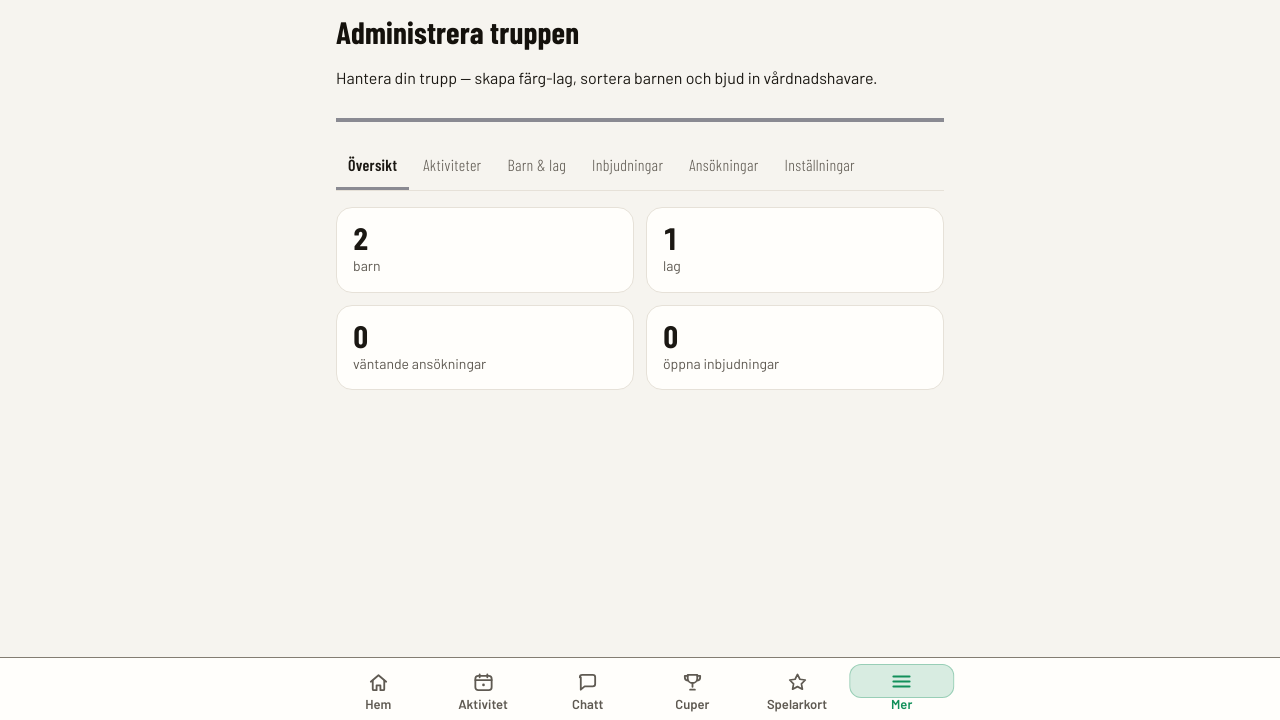
Scenario: Barn & lag › ändrar ett lags namn via kugghjulet (PUT under truppen)
This screenshot has width=1280, height=720.
Click the tab "Barn & lag".
click(537, 166)  # box left=496, top=142, right=578, bottom=190
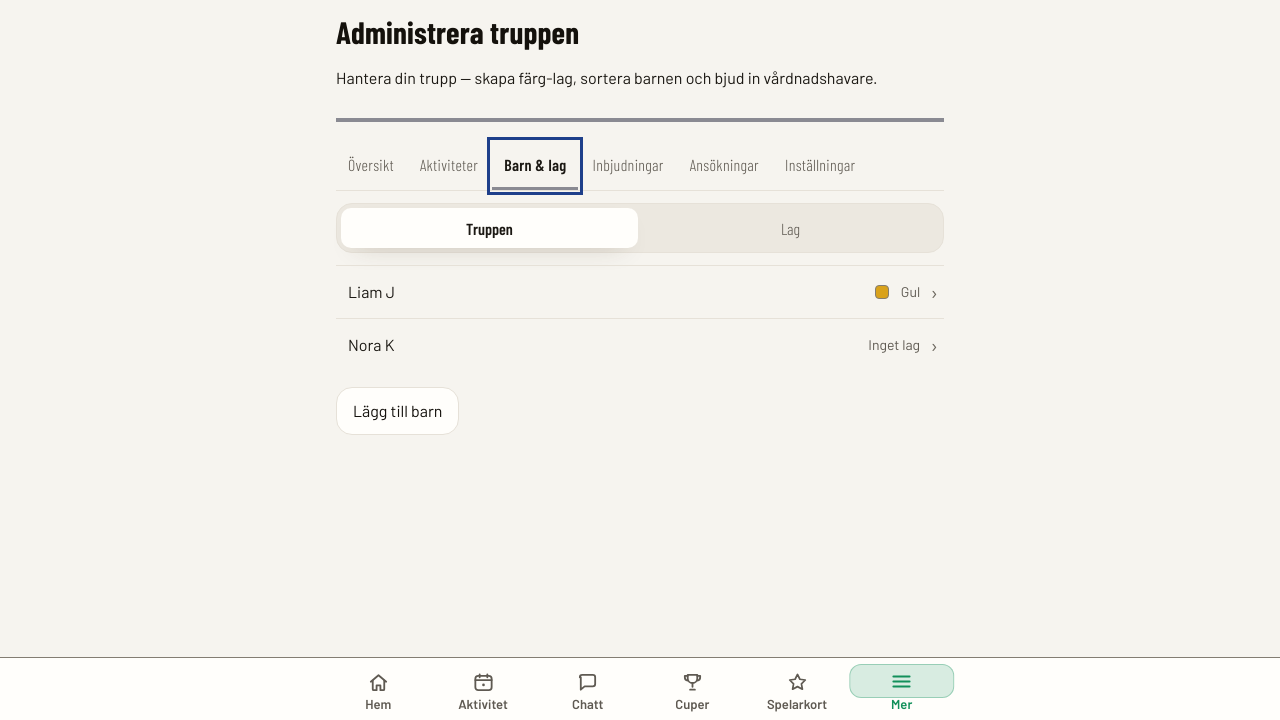
Click the button "Lag".
click(790, 228)  # box left=642, top=208, right=939, bottom=248
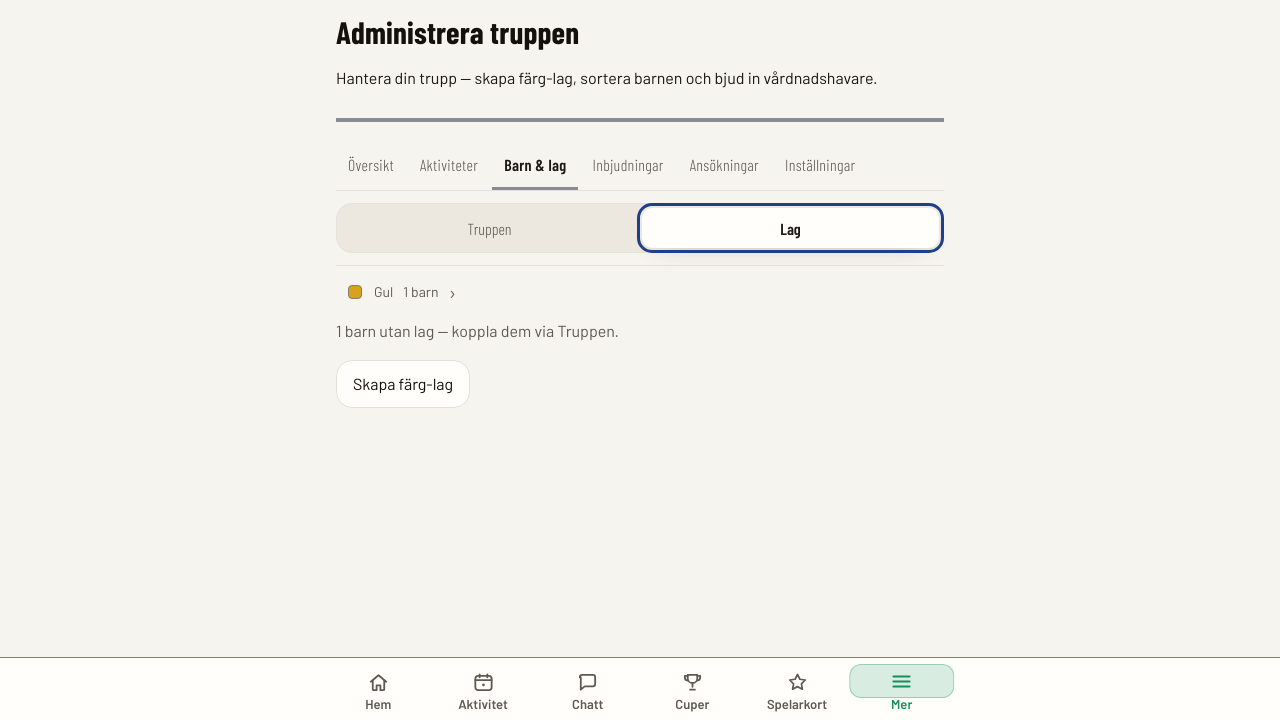
Click the button "Gul 1 barn ›".
click(423, 291)  # box left=336, top=265, right=944, bottom=318
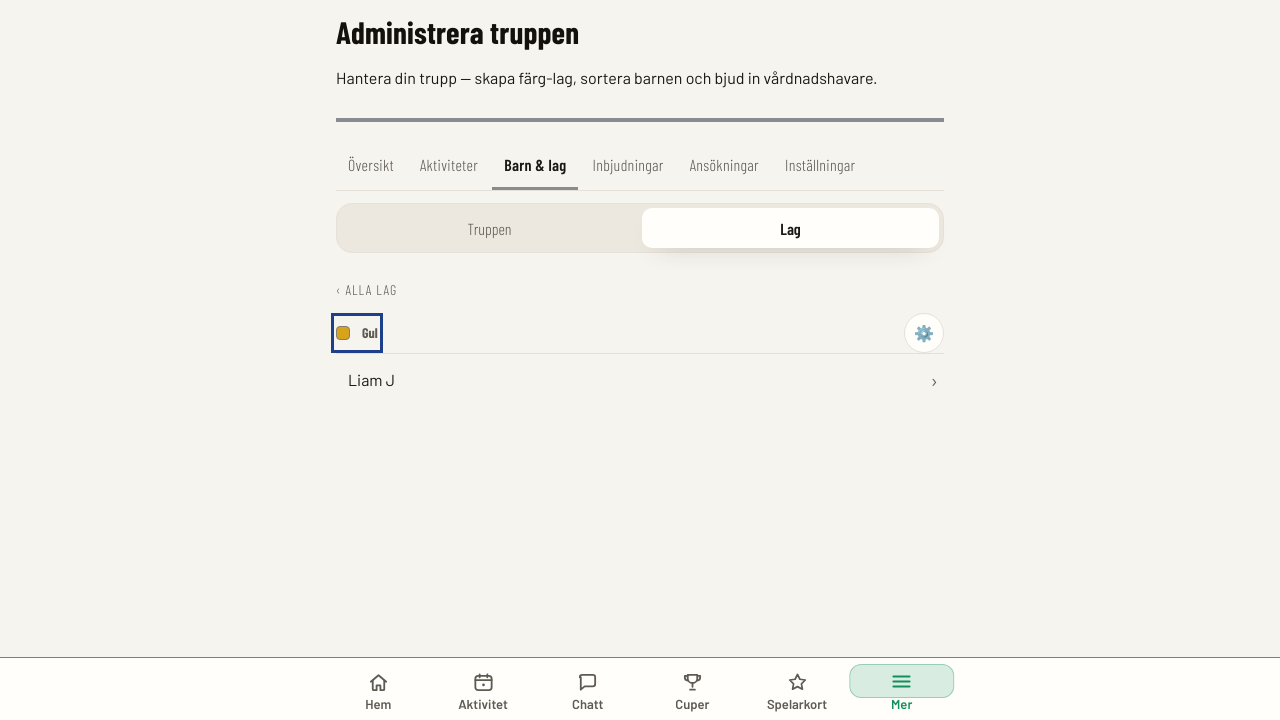
Click the button named "Ändra Gul".
click(924, 333)  # box left=904, top=313, right=944, bottom=353
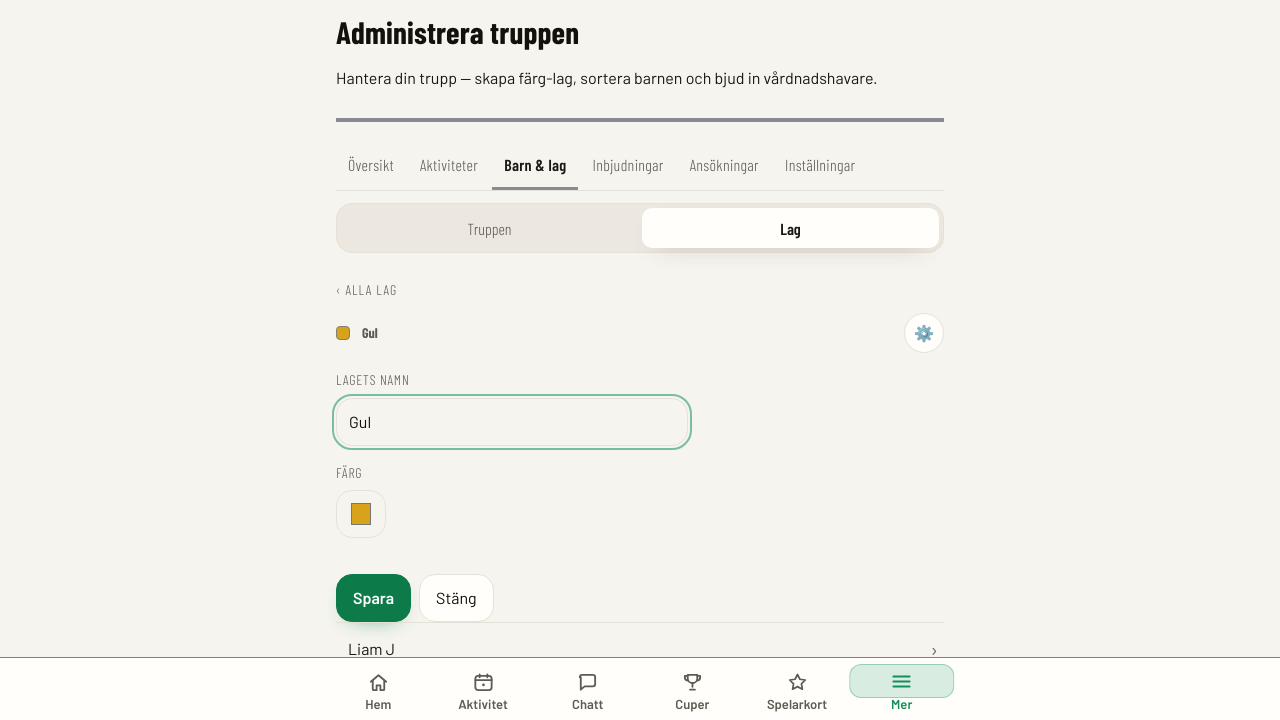
Replace the text in the field labelled "Lagets namn" with "Guld" at (512, 422), box left=336, top=398, right=688, bottom=446
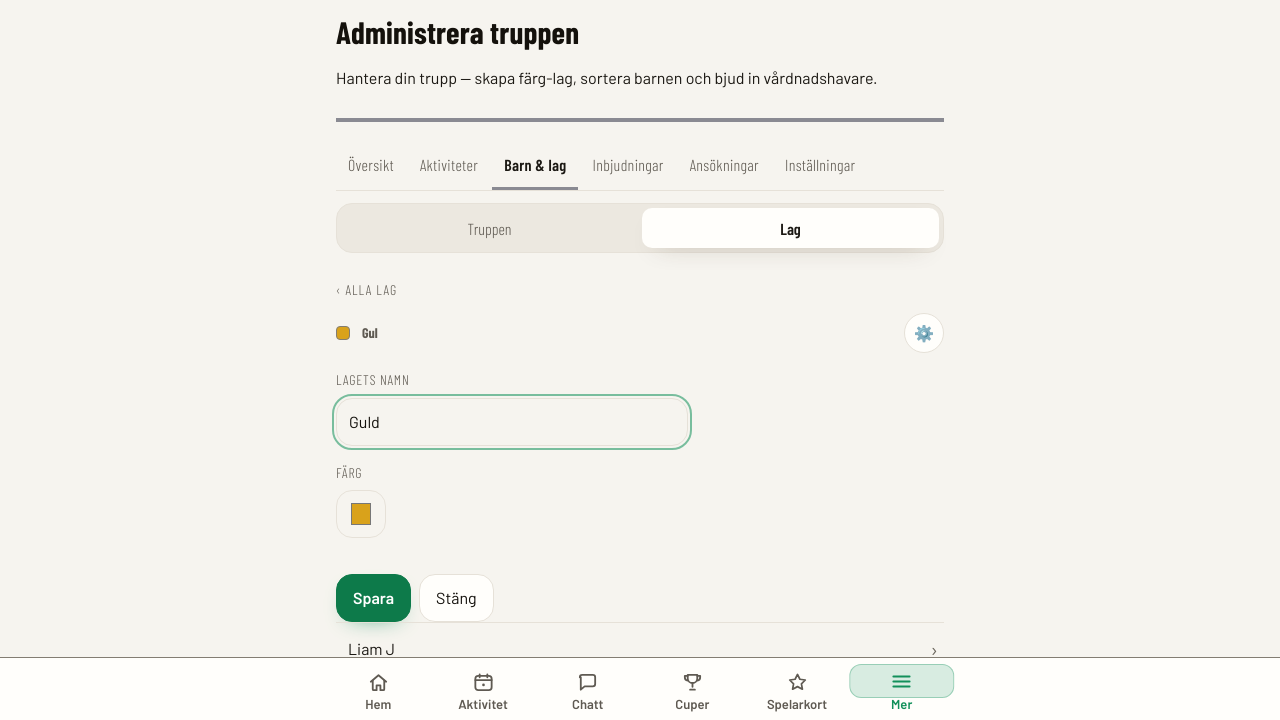
Click the button "Spara".
click(374, 598)  # box left=336, top=574, right=411, bottom=622
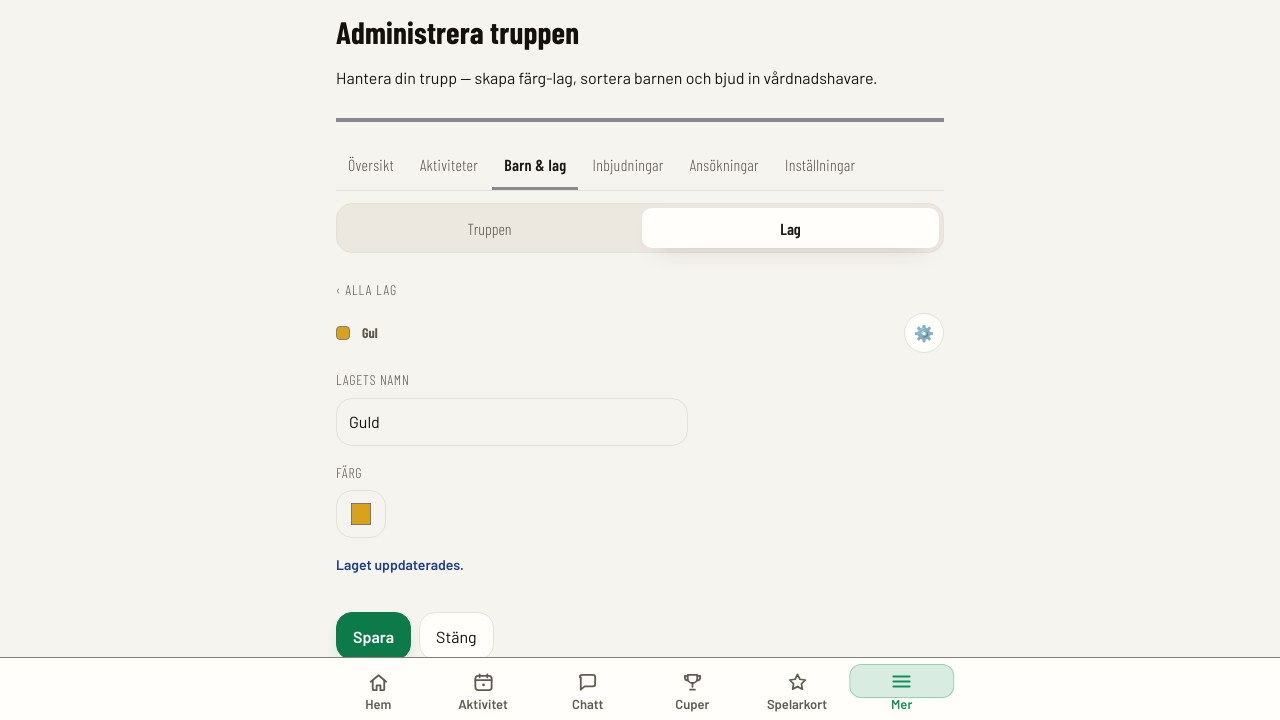
Now the text "Laget uppdaterades." is shown, box left=336, top=554, right=464, bottom=576
